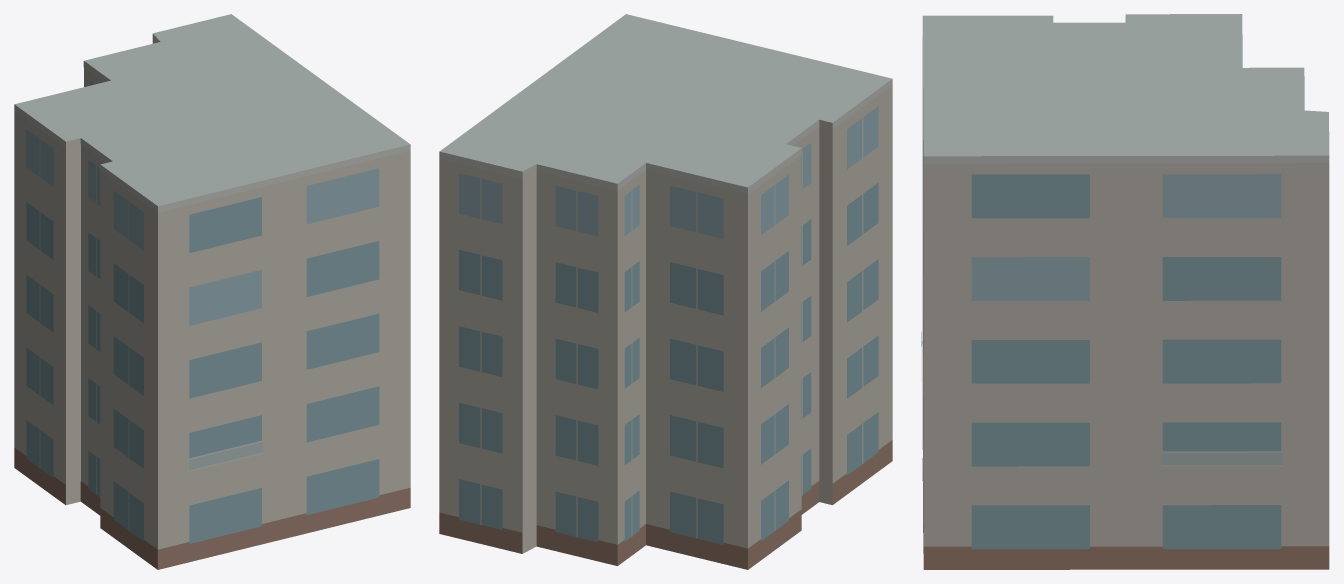
Rendered from survey-upis-33003360.glb.
3 renders of one model, left to right at view 1: azimuth 30°, elevation 25°; view 2: azimuth 150°, elevation 25°; view 3: azimuth 270°, elevation 25°, orthographic. The views are drawn at different scales.
Parts seen in each view (by area): view 1: survey-upis-33003360.tmp; view 2: survey-upis-33003360.tmp; view 3: survey-upis-33003360.tmp.
Boxes of the visible parts, x1,y1,x2,y2 form: survey-upis-33003360.tmp: [14, 14, 410, 569]; survey-upis-33003360.tmp: [439, 14, 892, 569]; survey-upis-33003360.tmp: [921, 14, 1329, 569].
Size of the model in its own units: 10.09 by 13.65 by 12.2.
